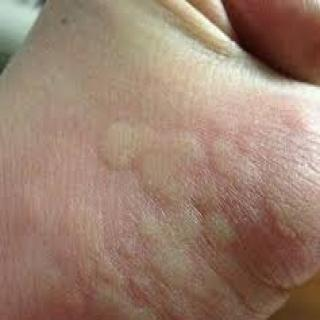urticaria: (84, 116, 206, 195), (135, 216, 235, 269), (72, 267, 164, 320), (216, 129, 263, 198)
